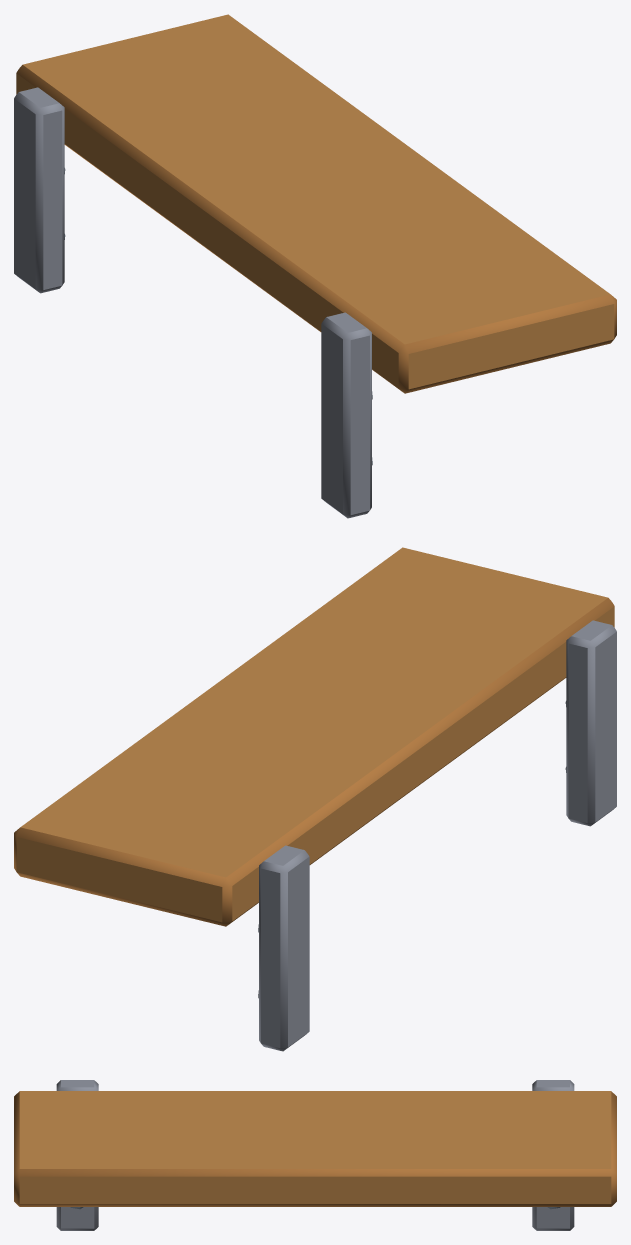
Rendered from HangShelf_1_A.glb.
The picture shows the model from 3 angles, top to bottom: view 1: azimuth 30°, elevation 25°; view 2: azimuth 150°, elevation 25°; view 3: azimuth 270°, elevation 25°; orthographic projection. The views are drawn at different scales.
Parts seen in each view (by area): view 1: HangShelf_1_A; view 2: HangShelf_1_A; view 3: HangShelf_1_A.
Part boxes in pixels (x1,y1,x2,y2): HangShelf_1_A: (14,14,616,518); HangShelf_1_A: (14,547,616,1051); HangShelf_1_A: (14,1080,616,1230).
Size of the model in its own units: 0.5071 by 0.3647 by 1.38.
Materials: 2 (2 with a texture image).
